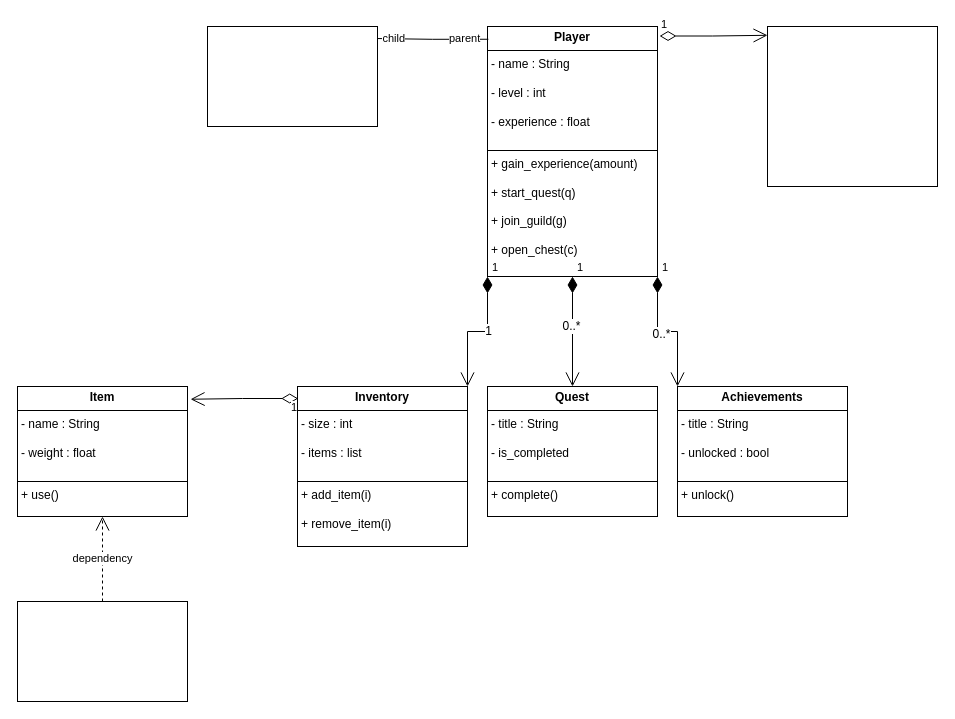
This 955x719 diagram has some shape labels left out. Here are the shapes that lost their labels. From the top down, the centre of each, then its label:
point 292,76: Chest - locked : bool + open()
point 852,106: Guild - name : String - creation_date + add_member(p) + remove_member
point 102,651: Weapon - damage : int + attack()
